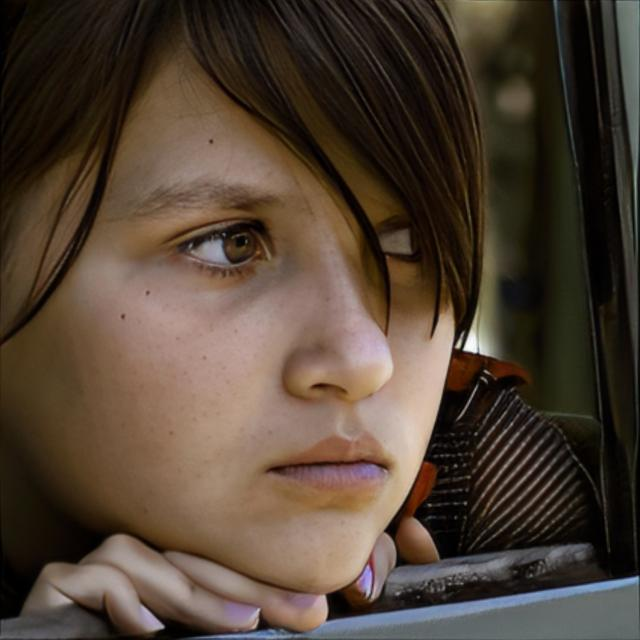fear: (3, 0, 458, 596)
